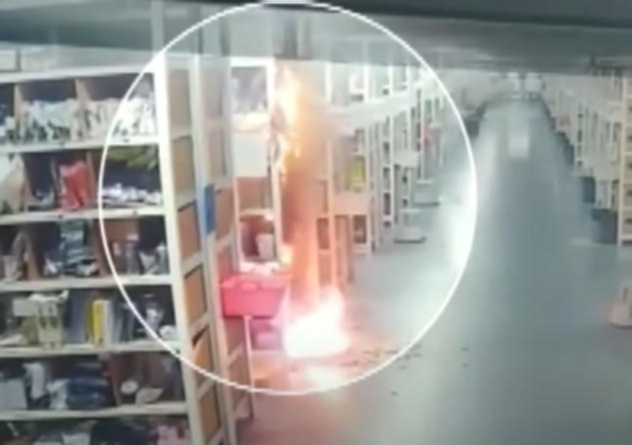fire: (265, 63, 365, 371)
